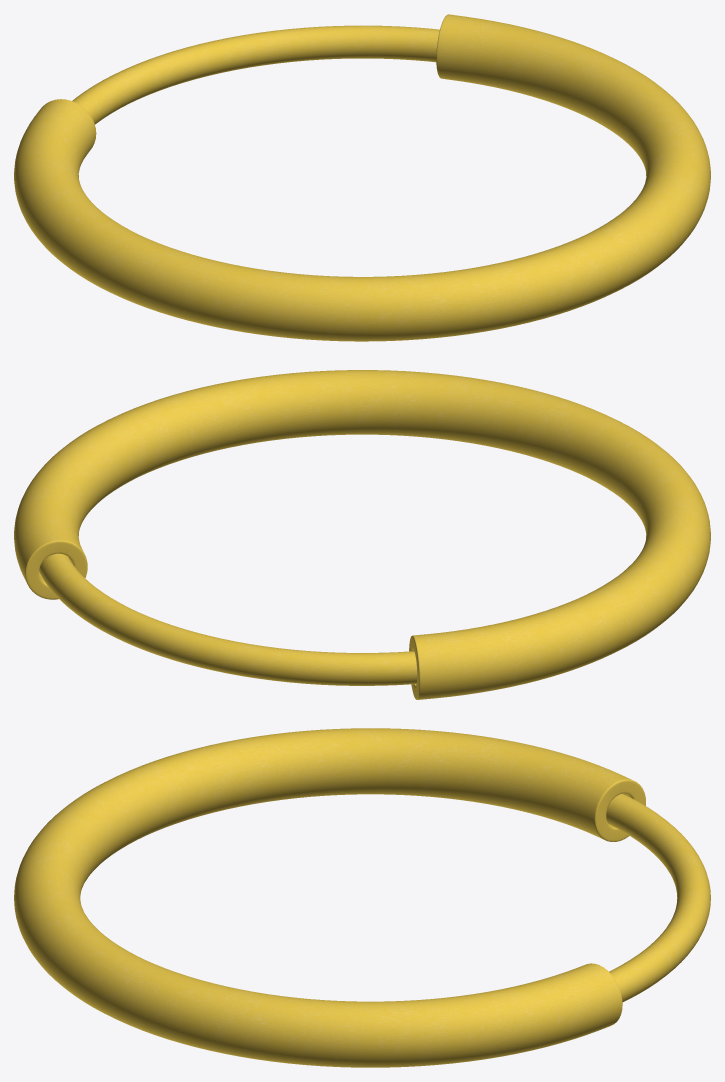
Rendered from golden ear ring.glb.
3 views of the same model, one above another, from view 1: azimuth 30°, elevation 25°; view 2: azimuth 150°, elevation 25°; view 3: azimuth 270°, elevation 25° (orthographic). The views are drawn at different scales.
Parts seen in each view (by area): view 1: Torus002, Object002_Material #25_0; view 2: Torus002, Object002_Material #25_0; view 3: Torus002, Object002_Material #25_0.
Boxes of the visible parts, x1,y1,x2,y2 form: Torus002: [14, 14, 710, 341]; Object002_Material #25_0: [72, 25, 439, 124]; Torus002: [14, 370, 710, 699]; Object002_Material #25_0: [39, 553, 417, 685]; Torus002: [14, 728, 645, 1067]; Object002_Material #25_0: [606, 793, 710, 1002].
Size of the model in its own units: 0.033 by 0.00307 by 0.0323.
1 material, 1 textured.
